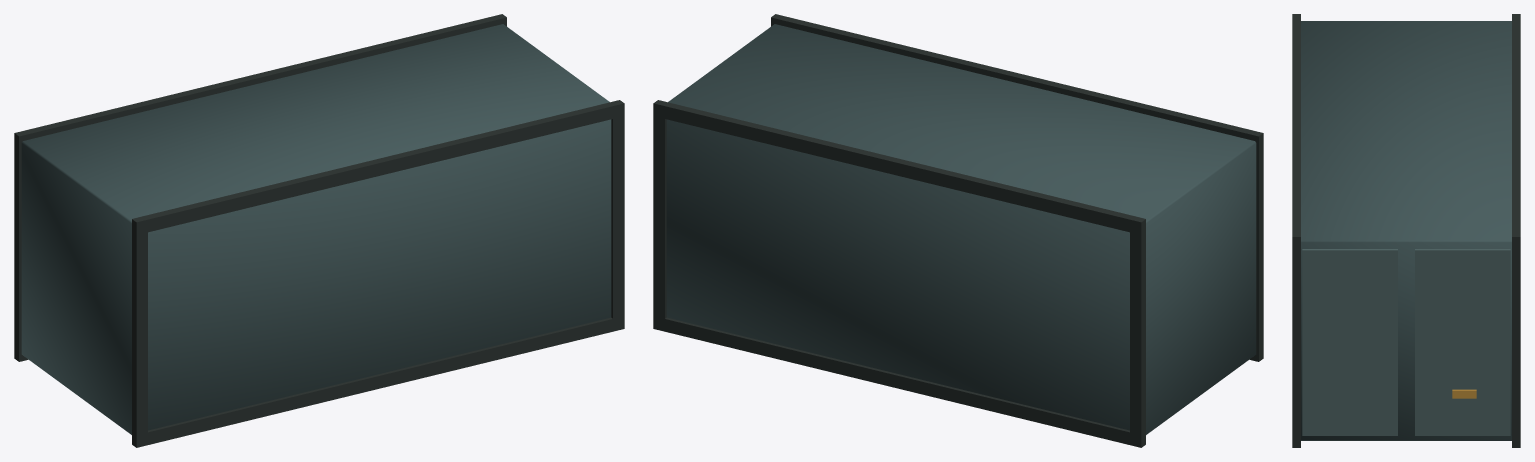
File: freightContainerLow.glb
The picture shows the model from 3 angles, left to right: view 1: azimuth 30°, elevation 25°; view 2: azimuth 150°, elevation 25°; view 3: azimuth 270°, elevation 25°; orthographic projection. The views are drawn at different scales.
Visible parts, largest first — view 1: SM_freightContainerLow; view 2: SM_freightContainerLow; view 3: SM_freightContainerLow.
Boxes of the visible parts, x1,y1,x2,y2 form: SM_freightContainerLow: [14, 14, 624, 447]; SM_freightContainerLow: [653, 14, 1263, 447]; SM_freightContainerLow: [1292, 14, 1520, 447].
Bounding box in the file's own units: 6.05 × 2.65 × 2.6.
